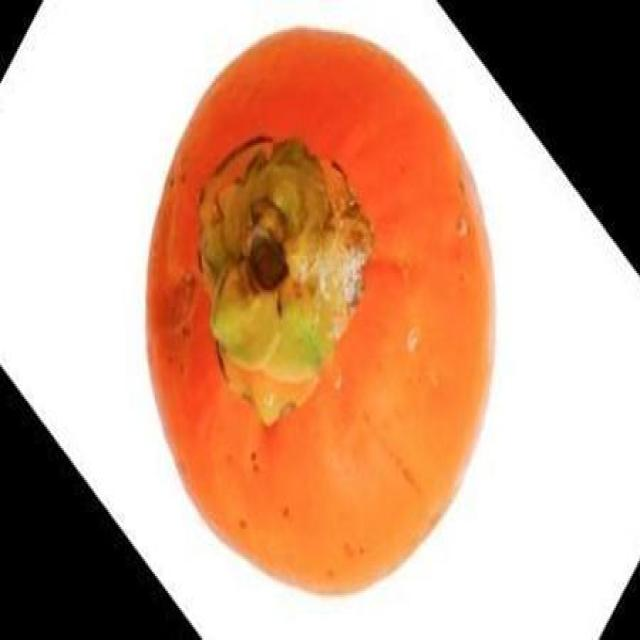good: (135, 30, 498, 602)
